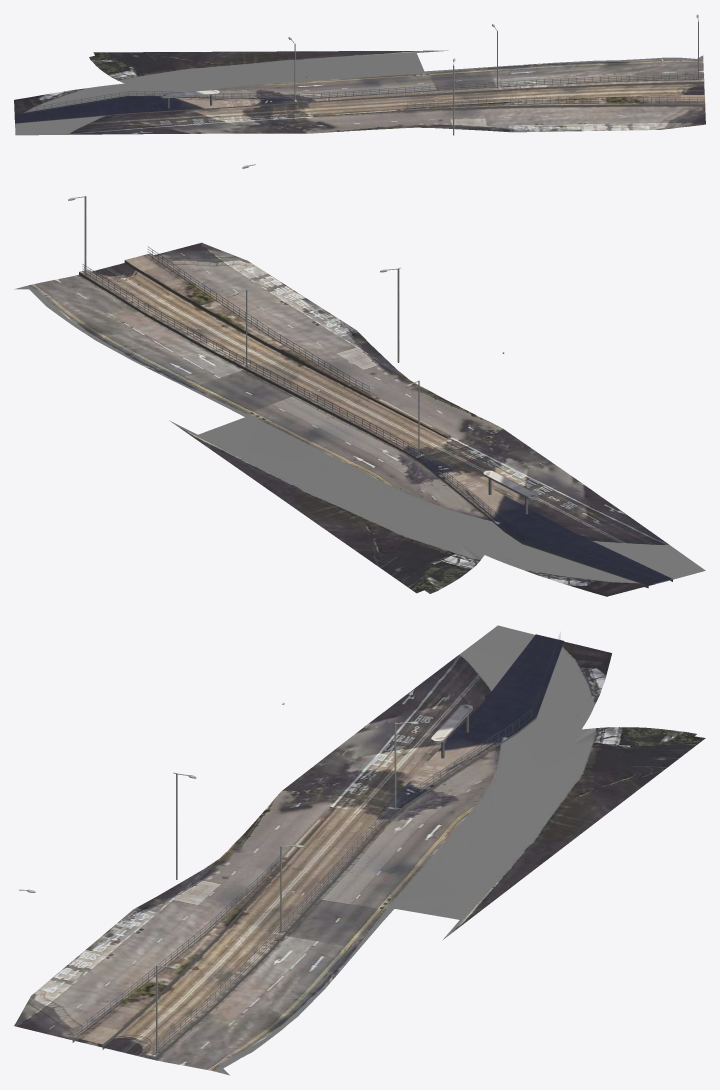
The model's file is murray-road.glb.
3 views of the same model, one above another, from view 1: azimuth 30°, elevation 25°; view 2: azimuth 150°, elevation 25°; view 3: azimuth 270°, elevation 25° (orthographic). The views are drawn at different scales.
Parts seen in each view (by area): view 1: murray-road; view 2: murray-road; view 3: murray-road.
Boxes of the visible parts, x1,y1,x2,y2 form: murray-road: (14,14,705,135); murray-road: (14,164,705,596); murray-road: (14,625,705,1075).
Bounding box in the file's own units: 110 × 12.92 × 72.19.
Materials: 5 (5 with a texture image).
